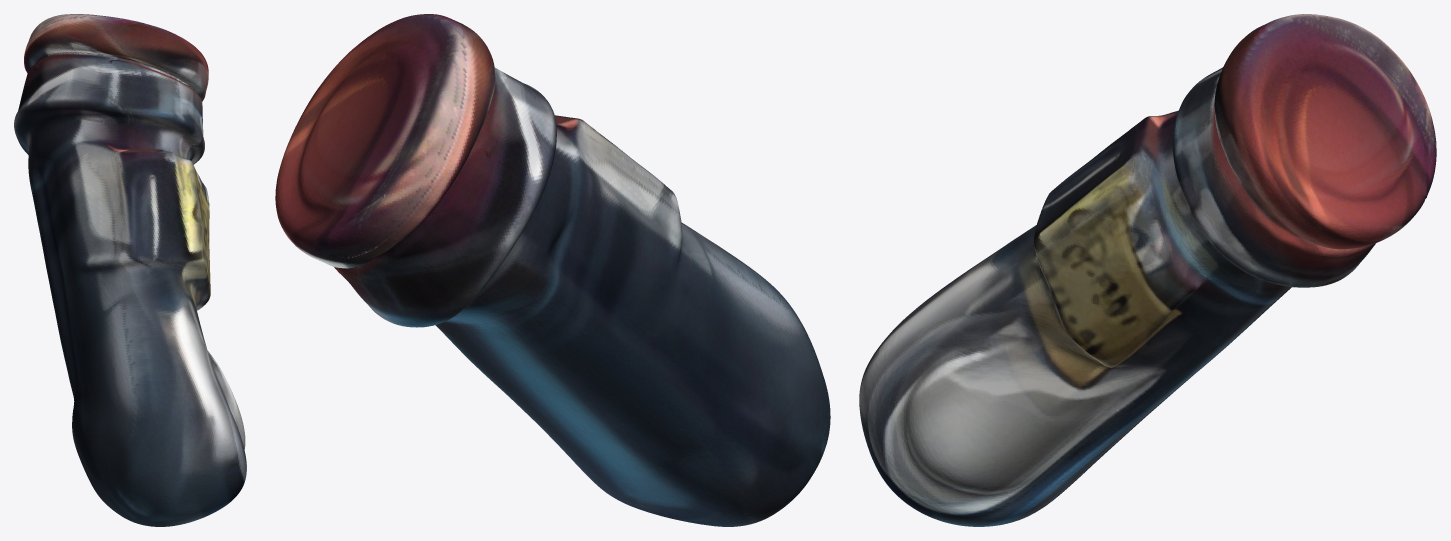
Rendered from mini_moon_dust.glb.
3 renders of one model, left to right at view 1: azimuth 30°, elevation 25°; view 2: azimuth 150°, elevation 25°; view 3: azimuth 270°, elevation 25°, orthographic. The views are drawn at different scales.
Bounding box in the file's own units: 1.16 × 1.99 × 1.99.
1 material, 1 textured.
